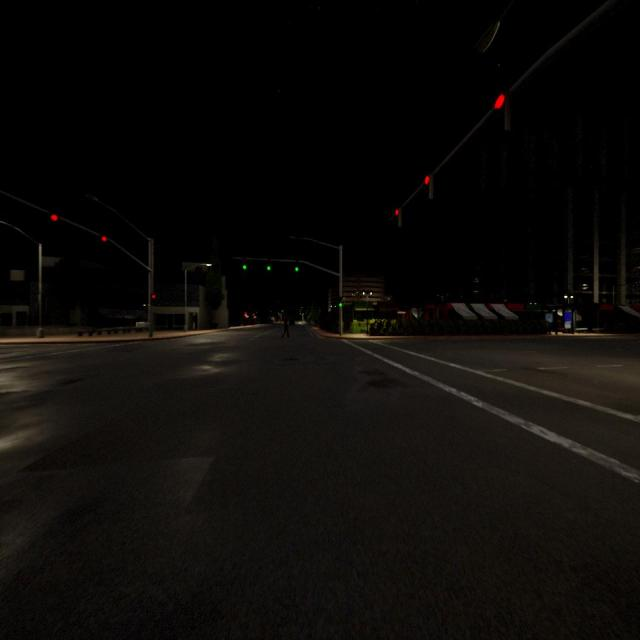Pedestrian: (281, 314, 291, 337)
traffic_light: (424, 173, 434, 199), (493, 94, 506, 110), (395, 208, 402, 228), (150, 294, 156, 306), (50, 214, 58, 222), (242, 258, 247, 270), (294, 261, 298, 272), (267, 260, 271, 270), (101, 236, 107, 242), (339, 296, 342, 308)
